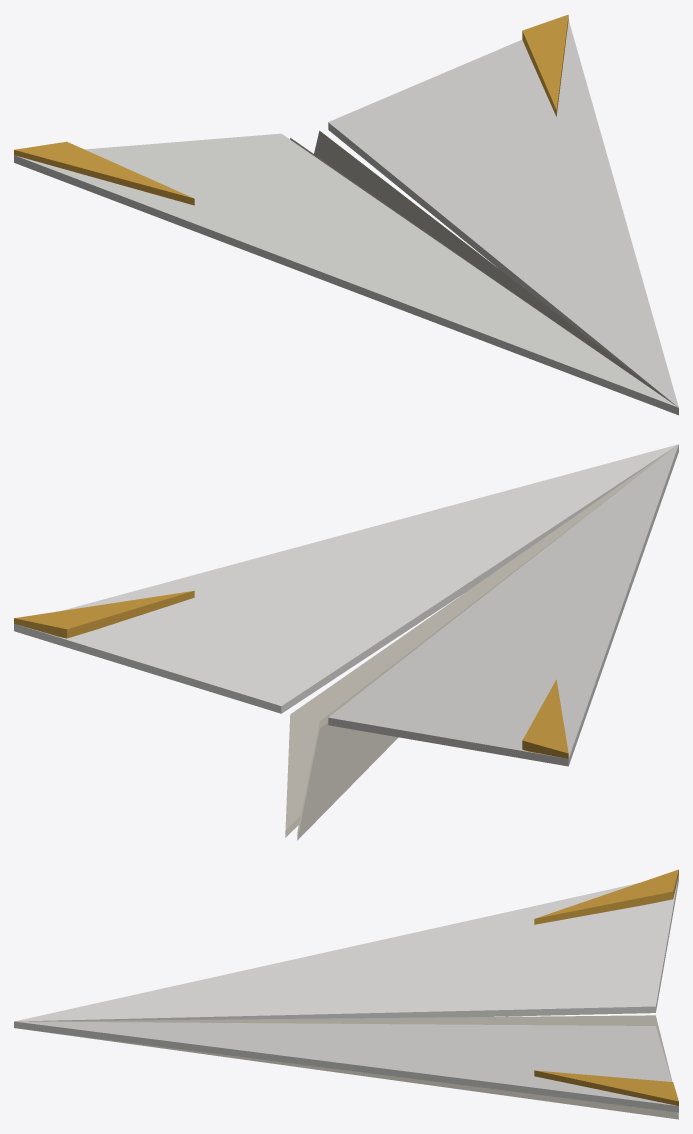
The model's file is paper_plane.glb.
The picture shows the model from 3 angles, top to bottom: view 1: azimuth 30°, elevation 25°; view 2: azimuth 150°, elevation 25°; view 3: azimuth 270°, elevation 25°; orthographic projection. The views are drawn at different scales.
Visible parts, largest first — view 1: paper_plane; view 2: paper_plane; view 3: paper_plane.
Part boxes in pixels (left/top/right/bottom): paper_plane: left=14, top=14, right=678, bottom=415; paper_plane: left=14, top=444, right=678, bottom=840; paper_plane: left=14, top=869, right=678, bottom=1119.
Size of the model in its own units: 1.9 by 0.5025 by 2.3.
